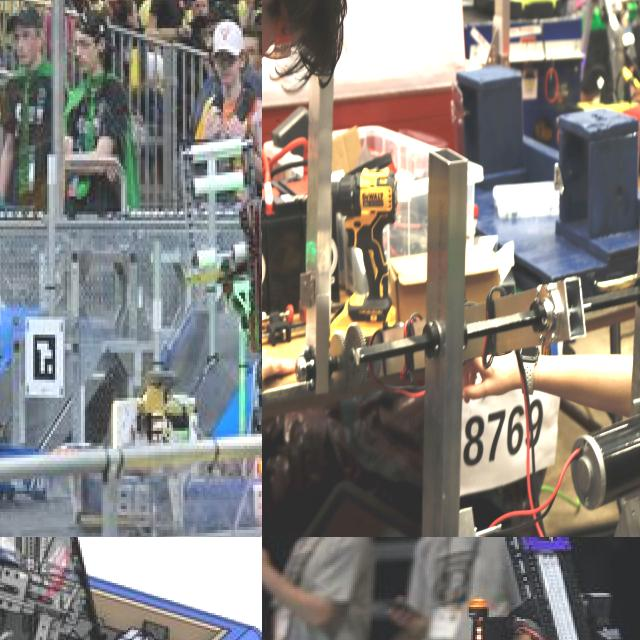FRC-Robots: (56, 195, 262, 517), (262, 537, 640, 640), (0, 537, 262, 640)
